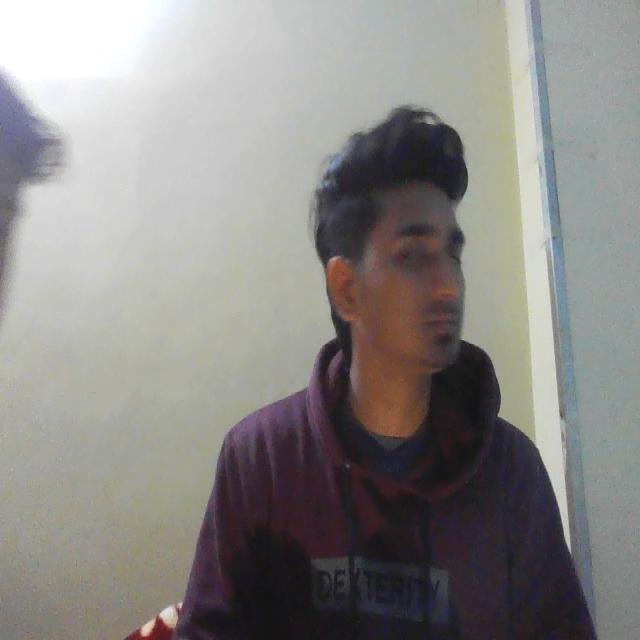real: (342, 124, 480, 384)
